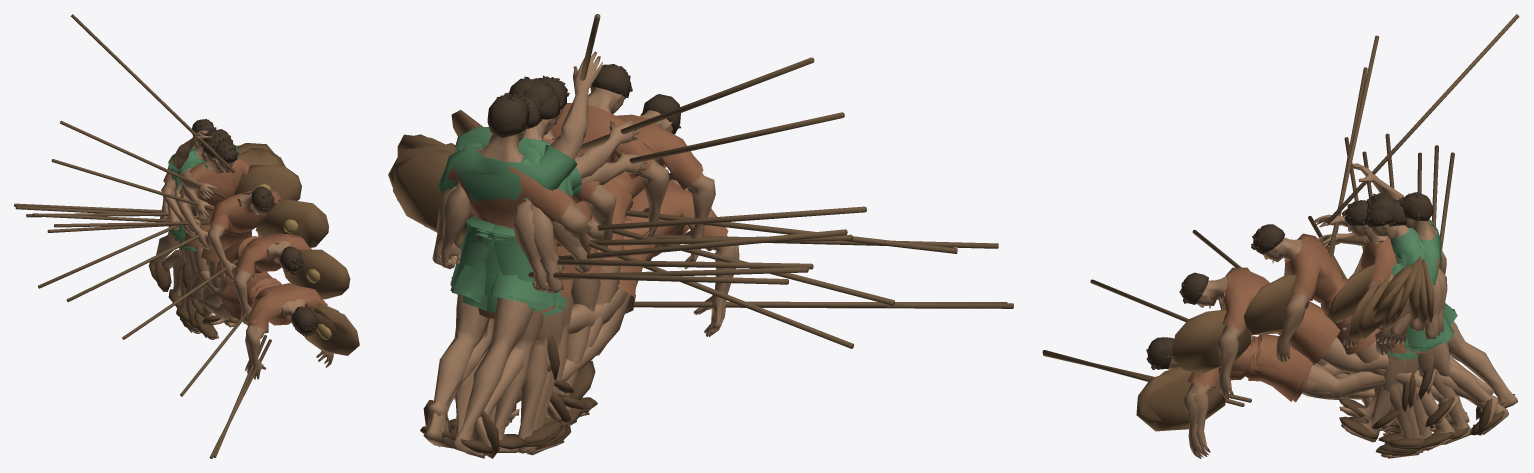
The model's file is victory-pursuit.glb.
3 renders of one model, left to right at view 1: azimuth 30°, elevation 25°; view 2: azimuth 150°, elevation 25°; view 3: azimuth 270°, elevation 25°, orthographic. The views are drawn at different scales.
Parts seen in each view (by area): view 1: Fall 2, Fall 3, Fall 1, Fall 5, Fall 4, Strike 0, Pursue 5, Fall 0, Strike 2, Strike 1, Pursue 0, Pursue 3 (+3 smaller); view 2: Pursue 0, Strike 0, Fall 2, Pursue 3, Fall 3, Pursue 5, Fall 4, Fall 0, Pursue 2, Fall 1, Pursue 4, Pursue 1 (+3 smaller); view 3: Fall 3, Fall 2, Fall 4, Fall 5, Fall 1, Strike 0, Pursue 0, Pursue 3, Pursue 2, Strike 1, Strike 2, Pursue 1 (+3 smaller).
Part boxes in pixels (x1,y1,x2,y2): Fall 2: (122,186,328,339); Fall 3: (180,233,350,396); Fall 1: (66,140,301,331); Fall 5: (183,261,359,458); Fall 4: (186,275,349,457); Strike 0: (70,14,235,320); Pursue 5: (32,131,238,307); Fall 0: (38,124,285,322); Strike 2: (51,159,239,333); Strike 1: (60,120,241,329); Pursue 0: (54,153,237,320); Pursue 3: (14,147,278,326); Pursue 0: (393,141,866,458); Strike 0: (438,14,602,449); Fall 2: (454,64,957,416); Pursue 3: (415,95,788,448); Fall 3: (559,94,998,417); Pursue 5: (412,78,847,452); Fall 4: (547,172,1007,426); Fall 0: (447,109,853,453); Pursue 2: (397,76,813,438); Fall 1: (449,75,894,428); Pursue 4: (423,91,808,447); Pursue 1: (388,143,852,458); Fall 3: (1090,267,1435,403); Fall 2: (1192,224,1459,427); Fall 4: (1043,334,1419,456); Fall 5: (1042,336,1409,458); Fall 1: (1308,200,1454,450); Strike 0: (1326,14,1519,446); Pursue 0: (1339,137,1517,442); Pursue 3: (1339,152,1508,435); Pursue 2: (1367,152,1470,444); Strike 1: (1313,35,1423,456); Strike 2: (1318,67,1419,458); Pursue 1: (1362,151,1494,444).
Size of the model in its own units: 2.61 by 2.97 by 3.42.
